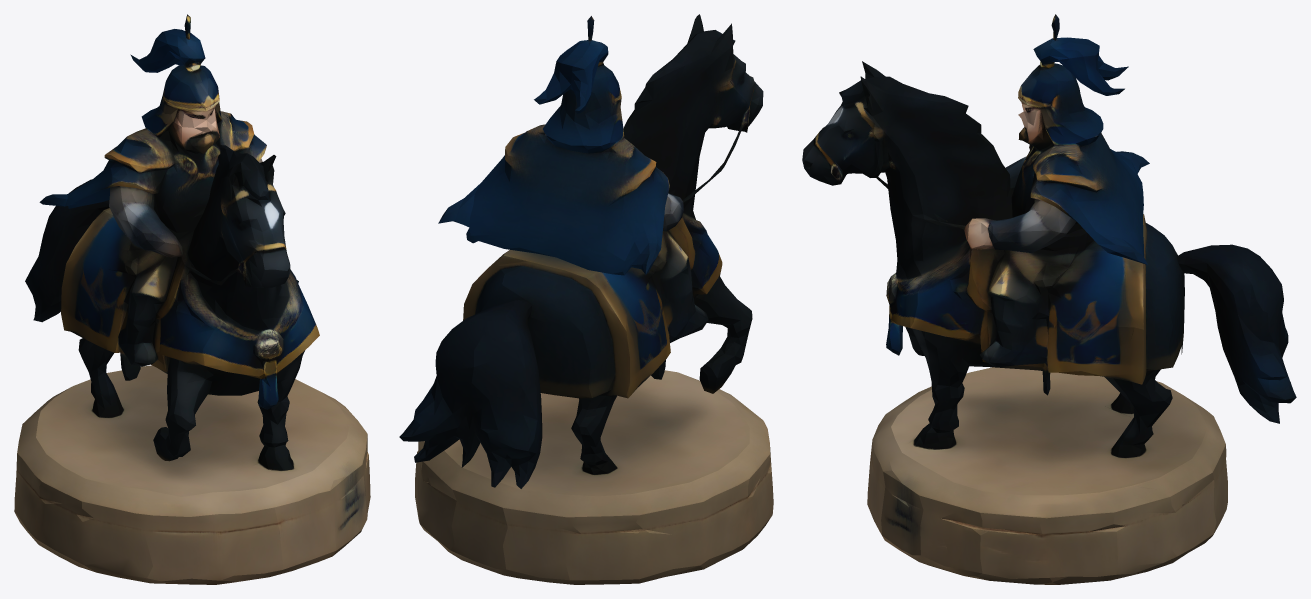
Rendered from horse_black.glb.
3 views of the same model, side by side, from view 1: azimuth 30°, elevation 25°; view 2: azimuth 150°, elevation 25°; view 3: azimuth 270°, elevation 25° (orthographic).
Visible parts, largest first — view 1: Mesh; view 2: Mesh; view 3: Mesh.
Part boxes in pixels (x1,y1,x2,y2): Mesh: [14, 14, 370, 584]; Mesh: [399, 14, 773, 584]; Mesh: [802, 14, 1296, 584].
Bounding box in the file's own units: 1.24 × 1.9 × 1.71.
1 material, 1 textured.
